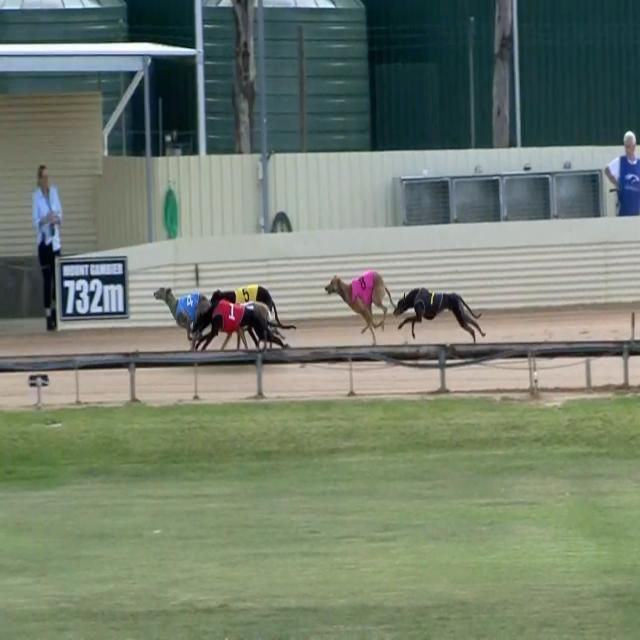dog_eight: (352, 266, 374, 305)
dog_five: (236, 285, 255, 308)
dog_four: (178, 290, 196, 322)
dog_one: (220, 300, 242, 328)
dog_seven: (414, 287, 448, 320)
